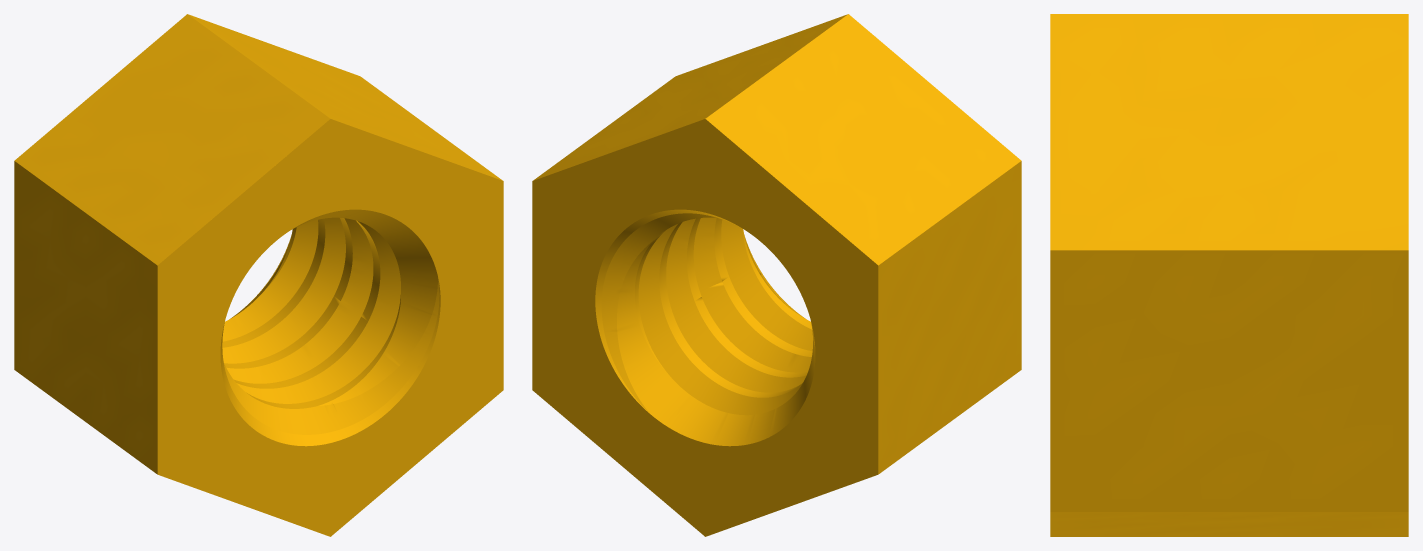
Rendered from nut1.obj.
The picture shows the model from 3 angles, left to right: view 1: azimuth 30°, elevation 25°; view 2: azimuth 150°, elevation 25°; view 3: azimuth 270°, elevation 25°; orthographic projection. The views are drawn at different scales.
Visible parts, largest first — view 1: mesh5.001, mesh7.001, mesh8.001, mesh1.001, mesh12.001, mesh3.001, mesh2.001; view 2: mesh6.001, mesh7.001, mesh8.001, mesh0.001, mesh4.001, mesh12.001, mesh2.001; view 3: mesh11.001, mesh12.001, mesh10.001.
Boxes of the visible parts, x1=… form: mesh5.001: x1=157, y1=119, x2=503, y2=536; mesh7.001: x1=14, y1=14, x2=330, y2=265; mesh8.001: x1=14, y1=161, x2=157, y2=474; mesh1.001: x1=222, y1=217, x2=439, y2=434; mesh12.001: x1=188, y1=14, x2=502, y2=180; mesh3.001: x1=220, y1=209, x2=440, y2=446; mesh2.001: x1=222, y1=218, x2=400, y2=408; mesh6.001: x1=532, y1=119, x2=878, y2=536; mesh7.001: x1=705, y1=14, x2=1021, y2=265; mesh8.001: x1=878, y1=161, x2=1021, y2=474; mesh0.001: x1=601, y1=213, x2=812, y2=415; mesh4.001: x1=595, y1=209, x2=815, y2=446; mesh12.001: x1=533, y1=14, x2=847, y2=180; mesh2.001: x1=635, y1=218, x2=812, y2=397; mesh11.001: x1=1050, y1=250, x2=1408, y2=511; mesh12.001: x1=1050, y1=14, x2=1408, y2=250; mesh10.001: x1=1050, y1=512, x2=1408, y2=536.
Size of the model in its own units: 0.03 by 0.0346 by 0.0215.
